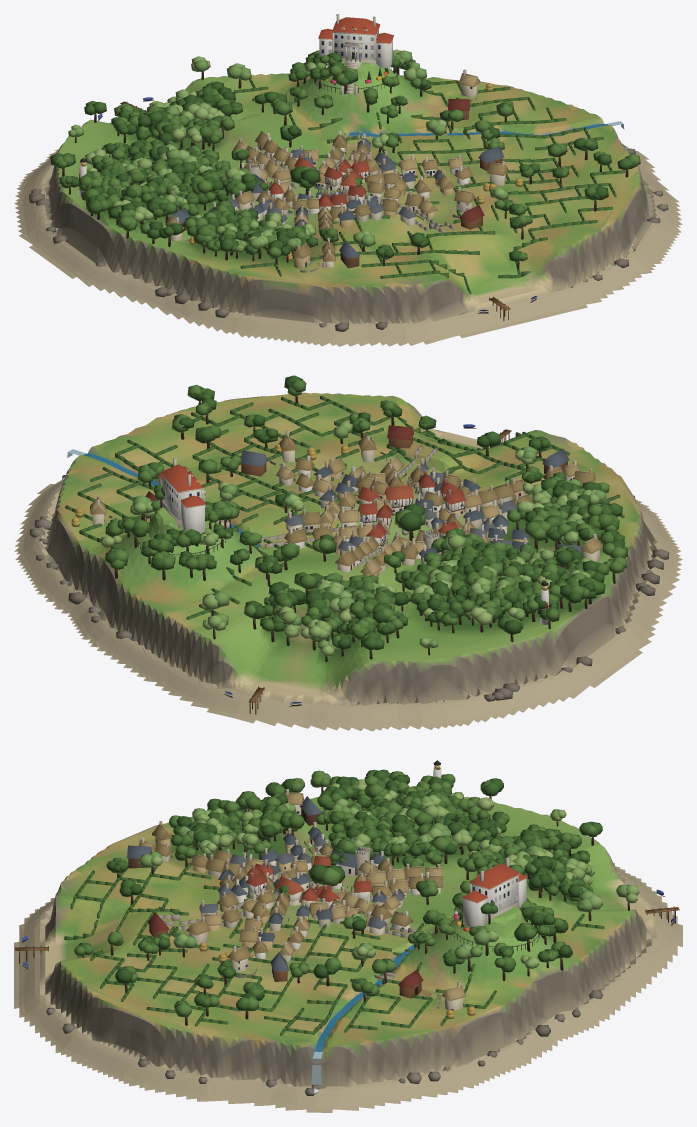
3 renders of one model, top to bottom at view 1: azimuth 30°, elevation 25°; view 2: azimuth 150°, elevation 25°; view 3: azimuth 270°, elevation 25°, orthographic. The views are drawn at different scales.
Parts seen in each view (by area): view 1: BASE, VILLE_2, VILLE_3, VILLE_4; view 2: BASE, VILLE_2, VILLE_3, VILLE_4; view 3: BASE, VILLE_2, VILLE_3, VILLE_4.
Part boxes in pixels (box(x1,y1,x2,y2)): BASE: box(14, 14, 682, 346); VILLE_2: box(50, 56, 608, 313); VILLE_3: box(165, 131, 463, 267); VILLE_4: box(78, 131, 473, 197); BASE: box(14, 384, 682, 731); VILLE_2: box(137, 375, 627, 697); VILLE_3: box(276, 455, 602, 576); VILLE_4: box(295, 455, 549, 624); BASE: box(14, 769, 682, 1112); VILLE_2: box(21, 770, 675, 1001); VILLE_3: box(138, 789, 442, 961); VILLE_4: box(252, 760, 442, 959).
Bounding box in the file's own units: 66 × 14.79 × 64.
